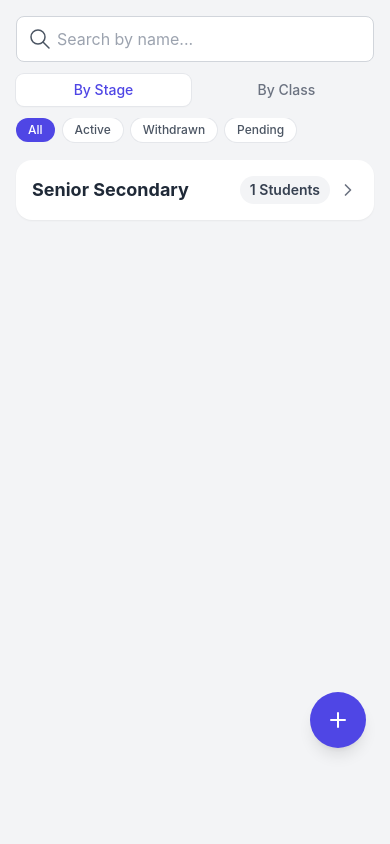
Test: StudentListScreen Component › searches server-side instead of filtering a local roster
The width and height of the screenshot is (390, 844).
Expected: the heading "Senior Secondary" is shown, [32,176,189,204]
Type "John" into the field named "Search for a student" at (195,39), box [16,16,374,62]
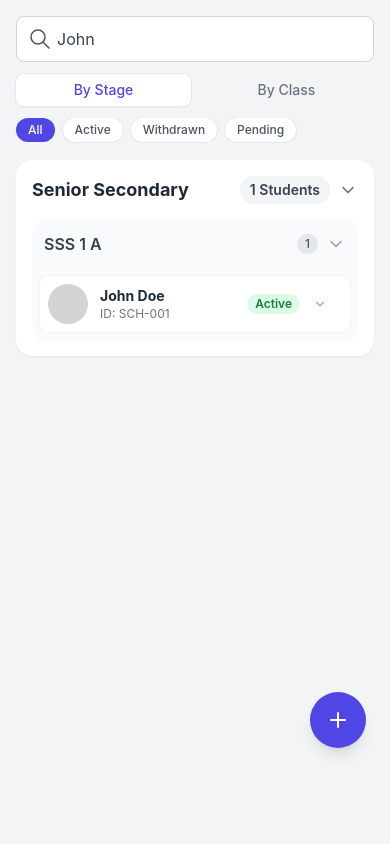
Result: the text "John Doe" is shown at [100,287,165,304]
